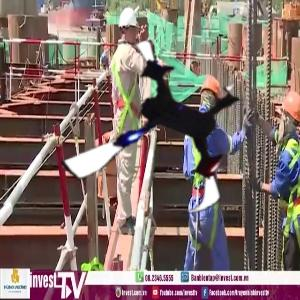drone: (57, 32, 257, 232)
